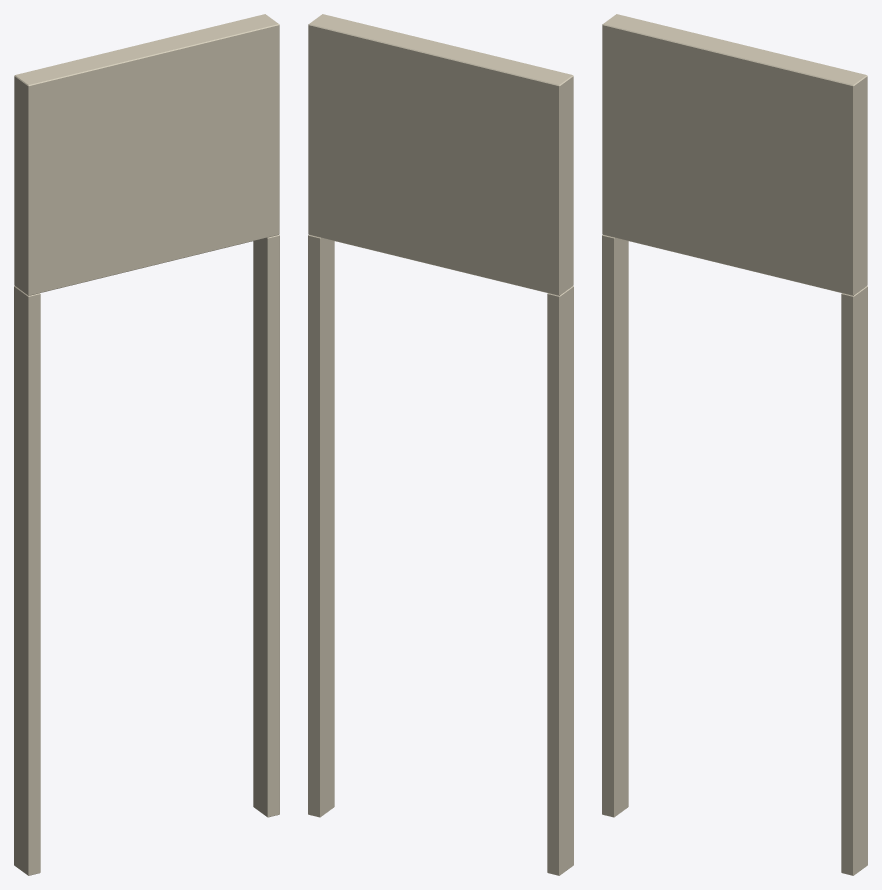
File: Doorway.fbx
The picture shows the model from 3 angles, left to right: view 1: azimuth 30°, elevation 25°; view 2: azimuth 150°, elevation 25°; view 3: azimuth 330°, elevation 25°; orthographic projection.
Parts seen in each view (by area): view 1: MR_Doorway_Body; view 2: MR_Doorway_Body; view 3: MR_Doorway_Body.
Part boxes in pixels (<box>): MR_Doorway_Body: <box>14,14,279,875</box>; MR_Doorway_Body: <box>308,14,573,875</box>; MR_Doorway_Body: <box>602,14,867,875</box>.
Size of the model in its own units: 1 by 3 by 0.1.
